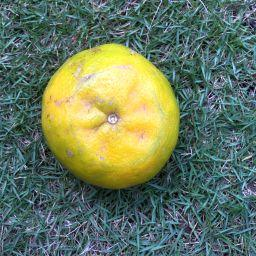Unripe: (41, 47, 177, 184)
